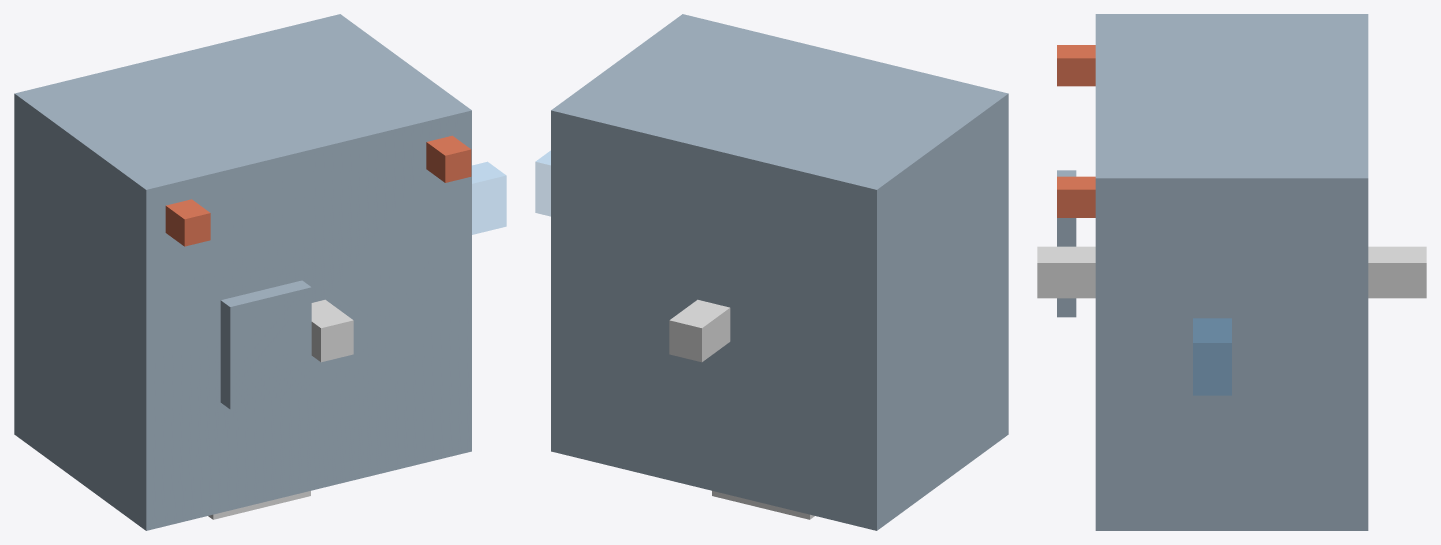
File: assembly-meshopt.glb
3 renders of one model, left to right at view 1: azimuth 30°, elevation 25°; view 2: azimuth 150°, elevation 25°; view 3: azimuth 270°, elevation 25°, orthographic. The views are drawn at different scales.
Parts seen in each view (by area): view 1: Housing, Plate, Two materials, Shaft, Bolt A, Bolt B, Bracket mesh name is not the node name; view 2: Housing, Shaft, Two materials, Bracket mesh name is not the node name; view 3: Housing, Shaft, Two materials, Bolt A, Bolt B, Plate.
Part boxes in pixels (box(x1,y1,x2,y2)): Housing: box(14, 14, 471, 530); Plate: box(220, 280, 311, 409); Two materials: box(472, 162, 506, 234); Shaft: box(311, 299, 353, 362); Bolt A: box(165, 199, 210, 246); Bolt B: box(426, 135, 471, 182); Bracket mesh name is not the node name: box(208, 491, 310, 519); Housing: box(551, 14, 1008, 530); Shaft: box(669, 299, 730, 362); Two materials: box(535, 151, 550, 216); Bracket mesh name is not the node name: box(712, 491, 814, 519); Housing: box(1095, 14, 1368, 530); Shaft: box(1037, 246, 1426, 298); Two materials: box(1193, 318, 1231, 395); Bolt A: box(1057, 45, 1095, 86); Bolt B: box(1057, 176, 1095, 217); Plate: box(1057, 170, 1076, 317).
Size of the model in its own units: 2.5 by 2.3 by 2.
